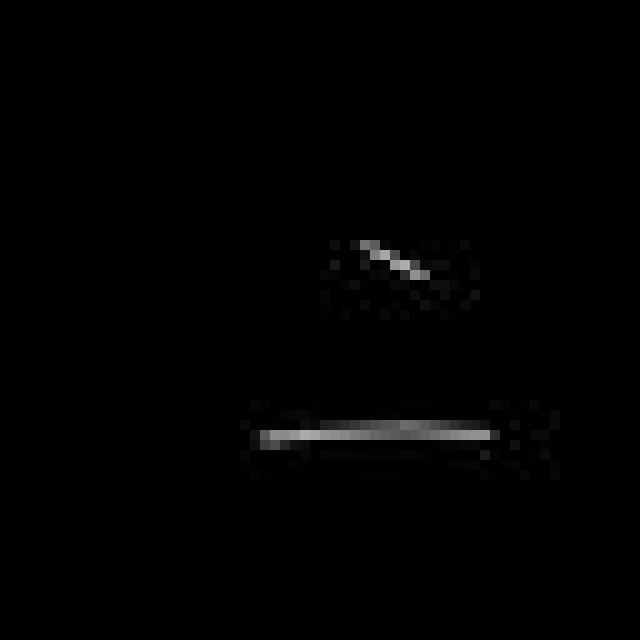2 -two-: (239, 226, 510, 466)
